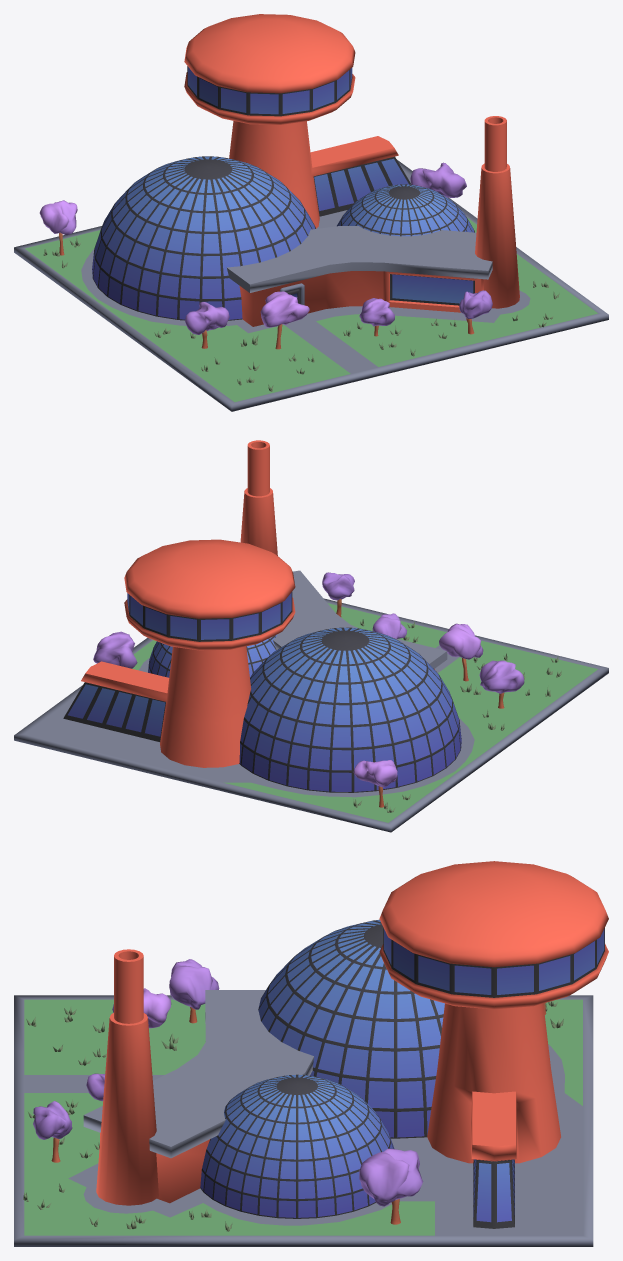
The model's file is power_plant.glb.
3 views of the same model, one above another, from view 1: azimuth 30°, elevation 25°; view 2: azimuth 150°, elevation 25°; view 3: azimuth 270°, elevation 25° (orthographic). The views are drawn at different scales.
Parts seen in each view (by area): view 1: power_plant; view 2: power_plant; view 3: power_plant.
Boxes of the visible parts, x1,y1,x2,y2 form: power_plant: (14,14,608,411); power_plant: (14,440,608,832); power_plant: (14,861,608,1246).
Bounding box in the file's own units: 3 × 1.46 × 3.08.
Materials: 1 (1 with a texture image).
